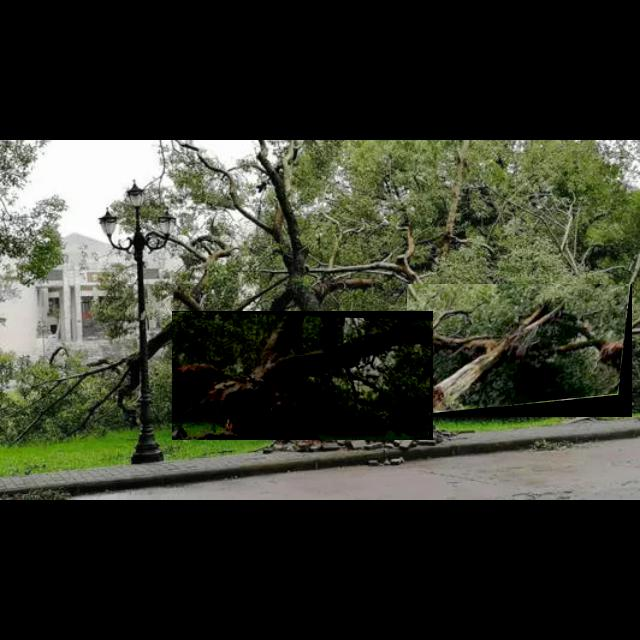Fallen Tree: (172, 311, 434, 441), (407, 284, 633, 418)
